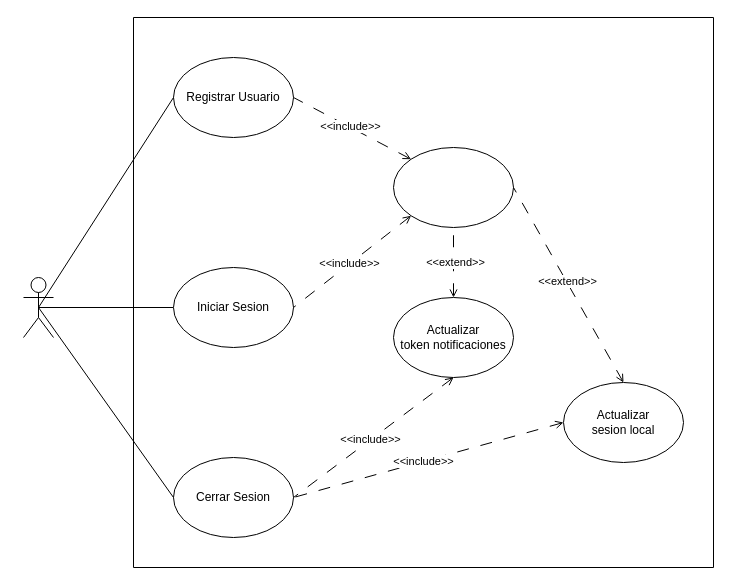
The diagram is 731 pixels wide and 585 high, and some of its shapes have lost their labels. The shapes that lost their labels are listed below. From the top down, each one's centre as x and y in pixels, then its label:
point (453, 187): Validar datos en Firebase Auth
point (38, 307): Jugador
